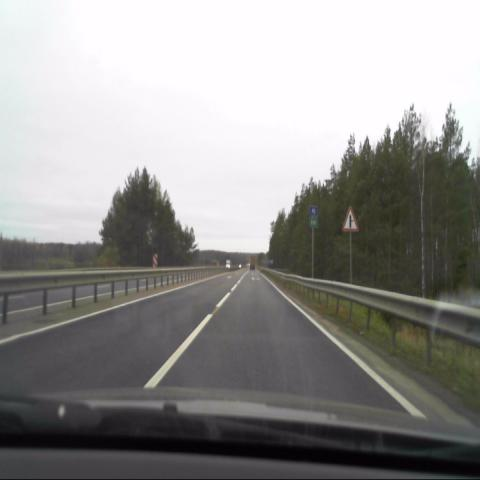2_3_2: (342, 206, 359, 233)
